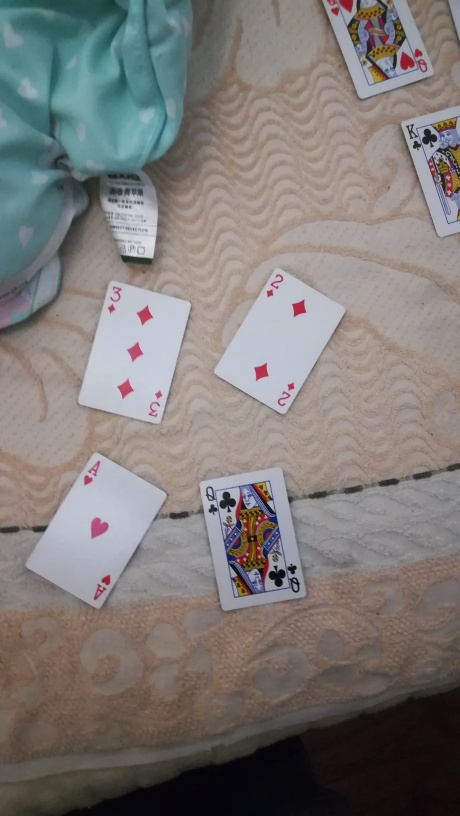fk 2: (209, 259, 342, 429)
fk 3: (67, 271, 194, 436)
hx a: (19, 444, 171, 632)
mh q: (188, 468, 315, 619)
